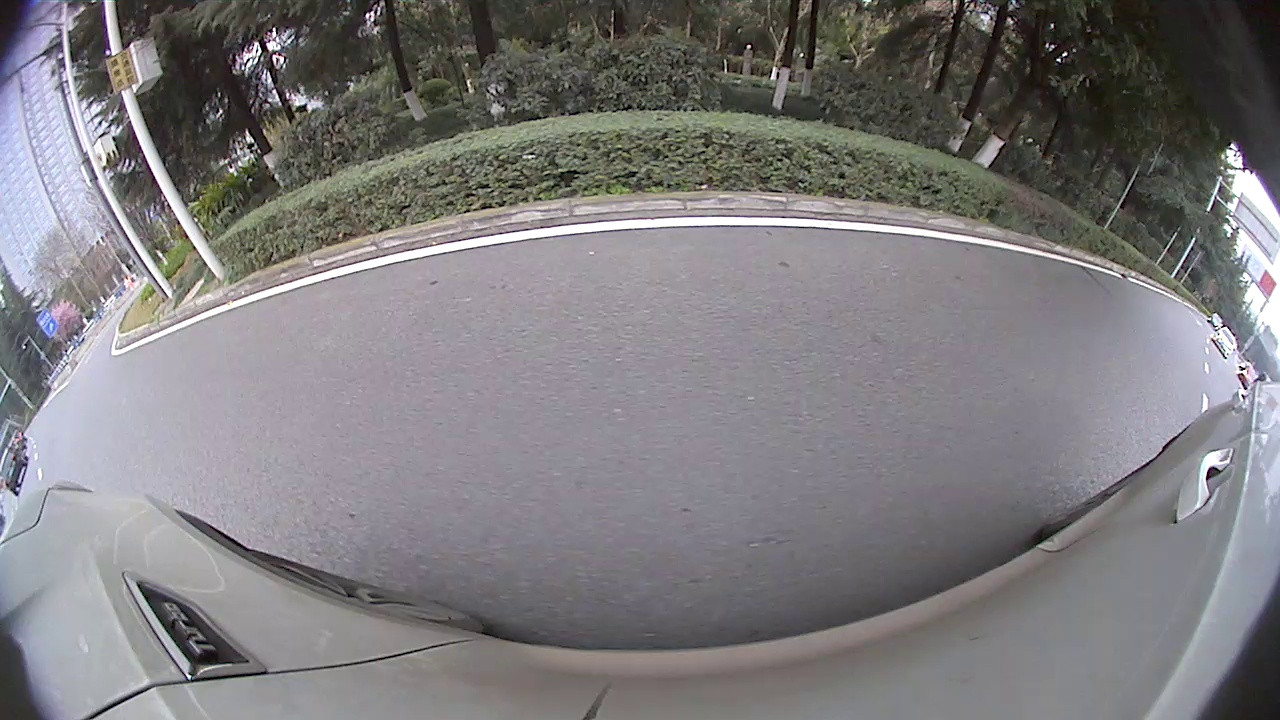bus: (838, 117, 1200, 215)
car: (876, 161, 1279, 438), (0, 218, 330, 475), (526, 89, 831, 285)
front: (242, 248, 314, 334), (888, 211, 929, 269), (865, 184, 888, 215)
rear: (1110, 321, 1204, 432)
